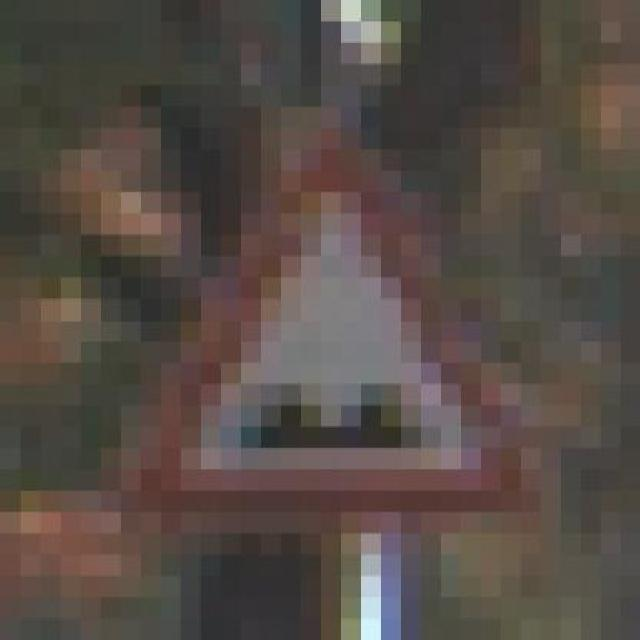Uneven Road: (100, 106, 540, 534)
